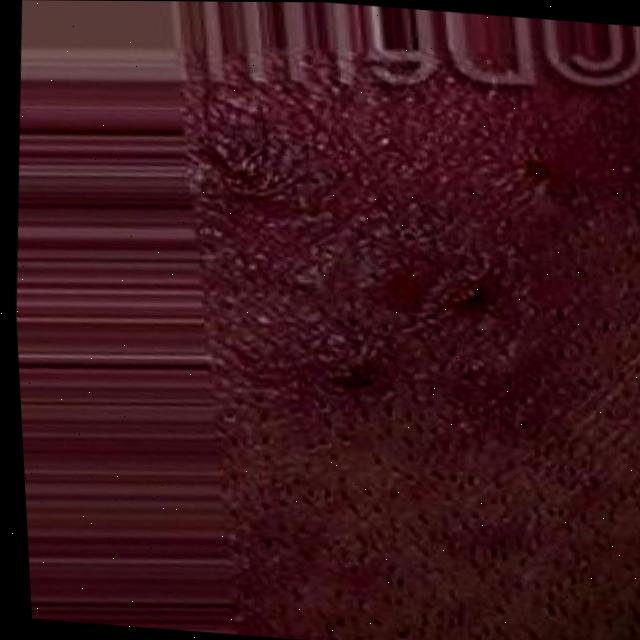Rosacea: (150, 125, 577, 472)
